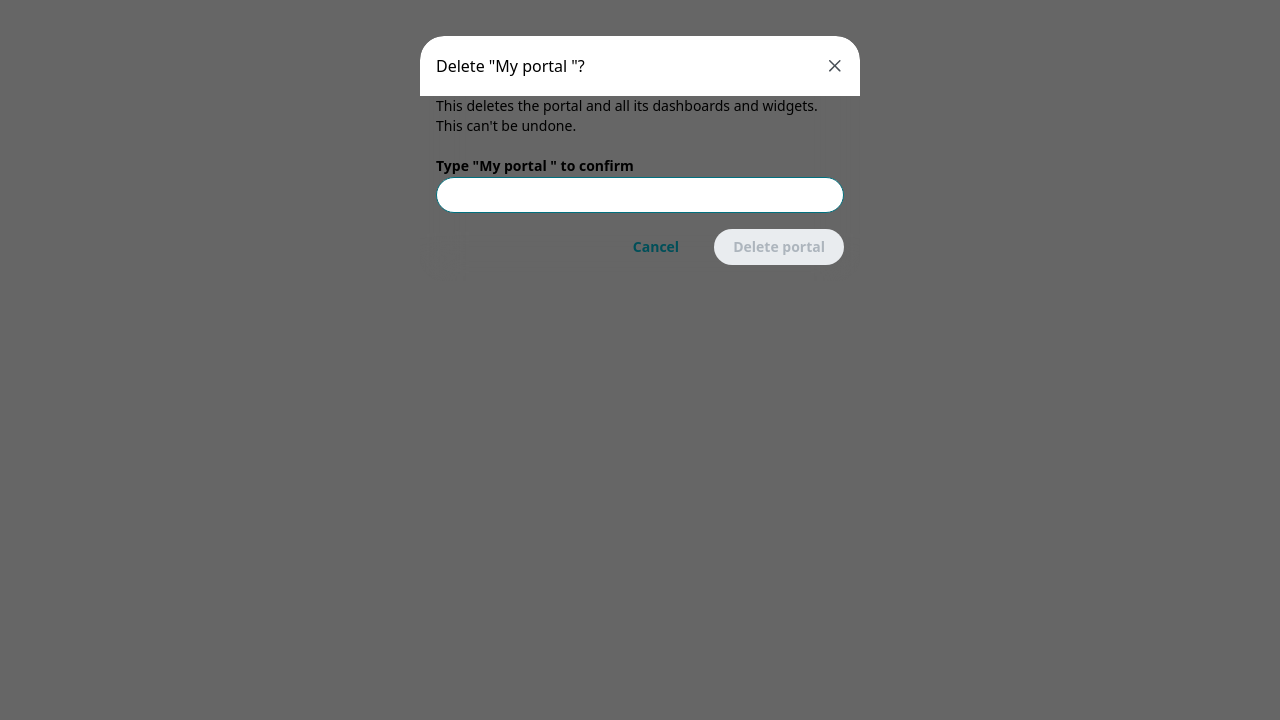
a name saved with a trailing space can still be confirmed
Type "My portal" into the field labelled "Type \"My portal \" to confirm" at (640, 195), box [436,177,844,213]
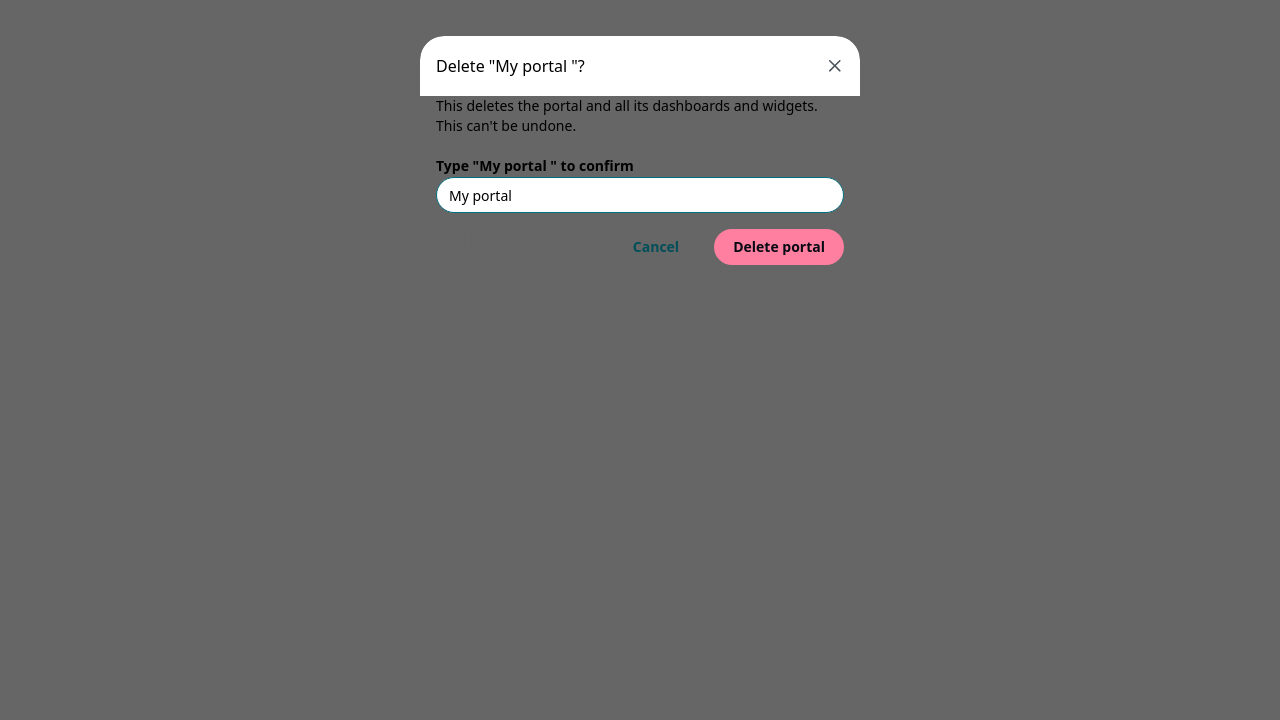
Expected: the button "Delete portal" is enabled, [714,229,844,265]
